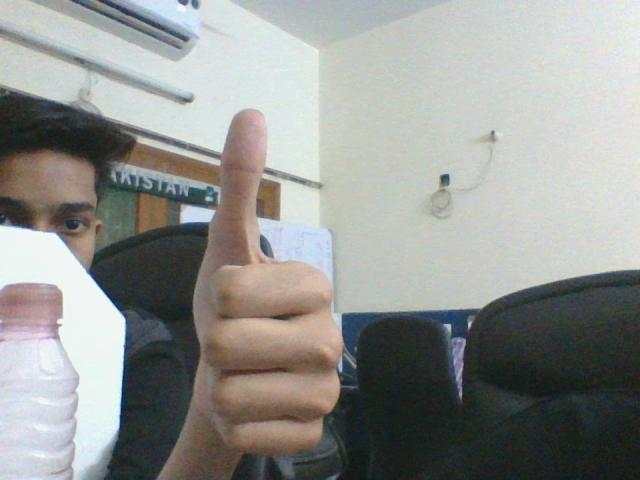thumbs-up: (182, 109, 363, 454)
